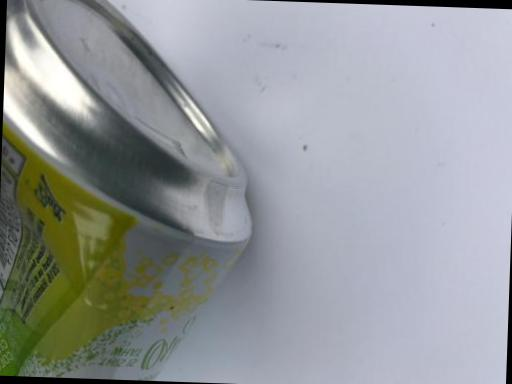metal: (0, 0, 295, 384)
